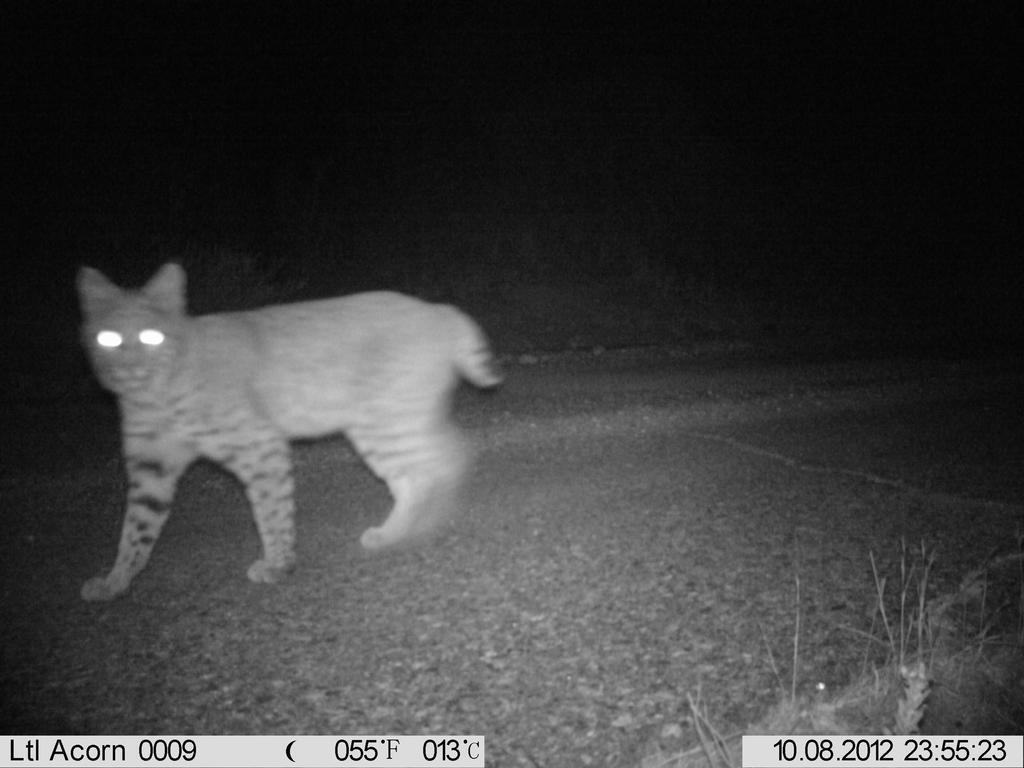bobcat: (48, 251, 523, 611)
